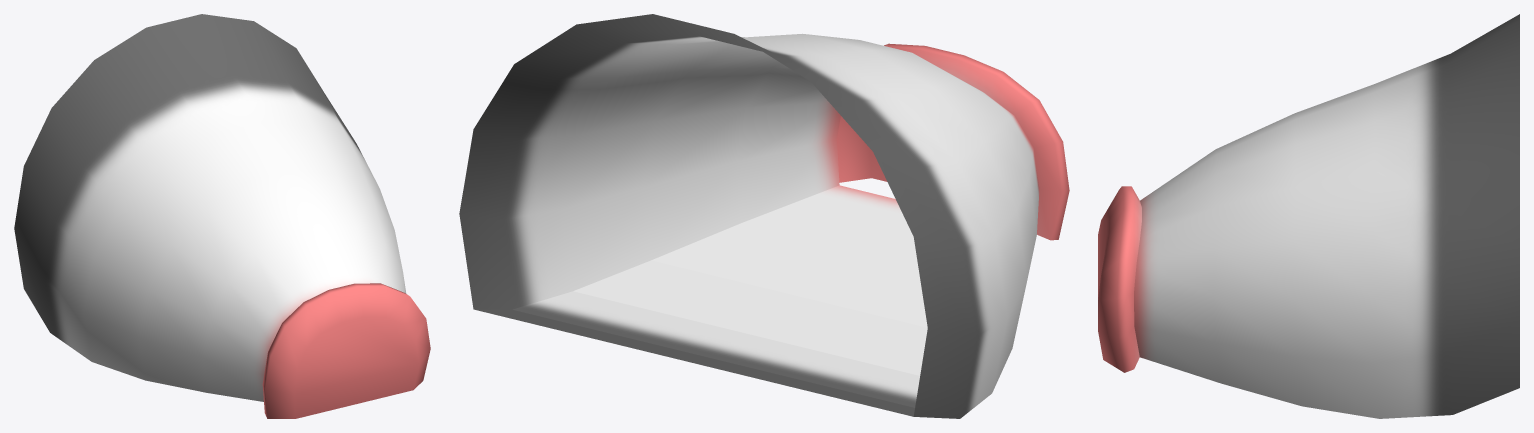
The model's file is FerretNose.fbx.
The picture shows the model from 3 angles, left to right: view 1: azimuth 30°, elevation 25°; view 2: azimuth 150°, elevation 25°; view 3: azimuth 270°, elevation 25°; orthographic projection. The views are drawn at different scales.
Visible parts, largest first — view 1: Ferret_Nose; view 2: Ferret_Nose; view 3: Ferret_Nose.
Part boxes in pixels (x1,y1,x2,y2): Ferret_Nose: (14,14,430,418); Ferret_Nose: (459,14,1069,418); Ferret_Nose: (1098,14,1519,418).
Bounding box in the file's own units: 5.6 × 4.31 × 5.45.
Materials: 1 (1 with a texture image).
